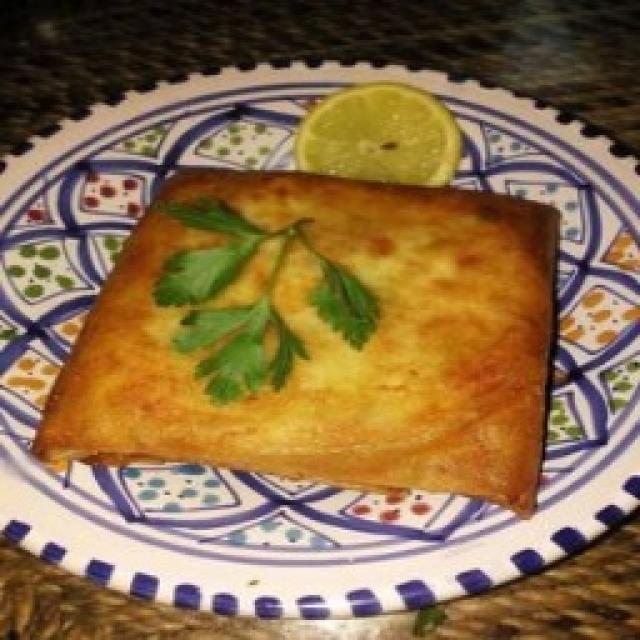Brik: (30, 100, 565, 518)
